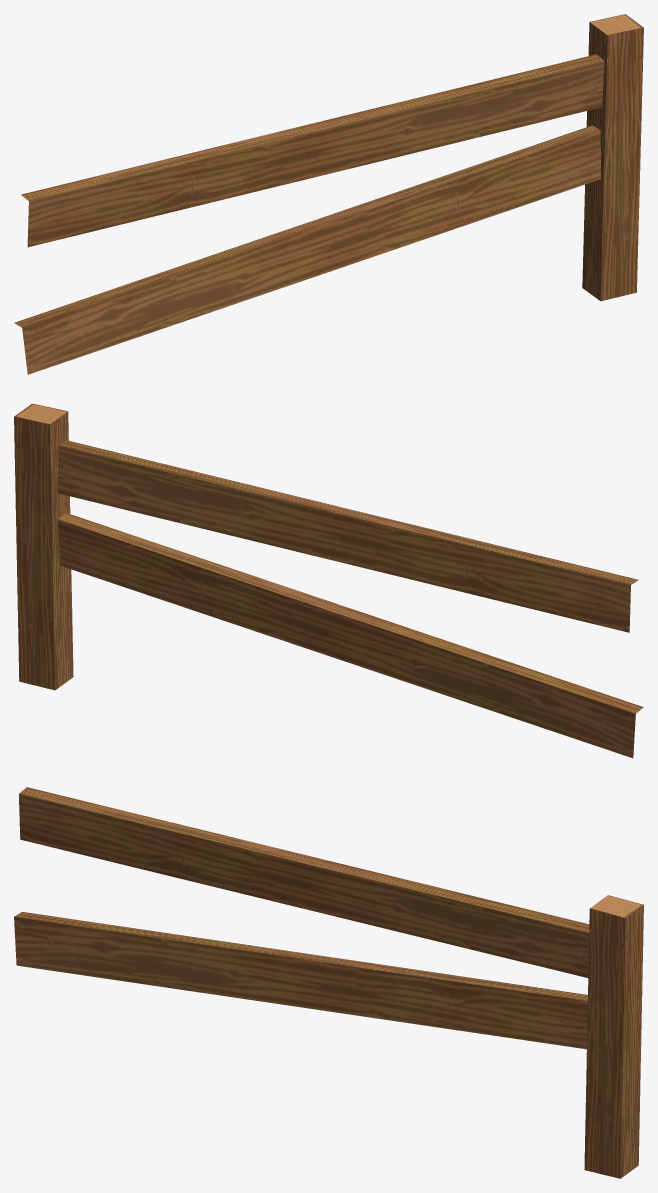
File: prop-woodenfence-extension1.glb
3 renders of one model, top to bottom at view 1: azimuth 30°, elevation 25°; view 2: azimuth 150°, elevation 25°; view 3: azimuth 330°, elevation 25°, orthographic.
Visible parts, largest first — view 1: Prop_WoodenFence_Extension1; view 2: Prop_WoodenFence_Extension1; view 3: Prop_WoodenFence_Extension1.
Boxes of the visible parts, x1,y1,x2,y2 form: Prop_WoodenFence_Extension1: (14,14,643,374); Prop_WoodenFence_Extension1: (14,403,643,758); Prop_WoodenFence_Extension1: (14,787,643,1178).
Size of the model in its own units: 2.05 by 0.8381 by 0.1104.
Materials: 1 (1 with a texture image).
